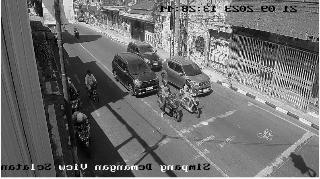mobil: (108, 55, 158, 99), (160, 55, 214, 94), (126, 42, 166, 70)
motor: (156, 82, 180, 124), (178, 83, 206, 116), (72, 25, 80, 43)
